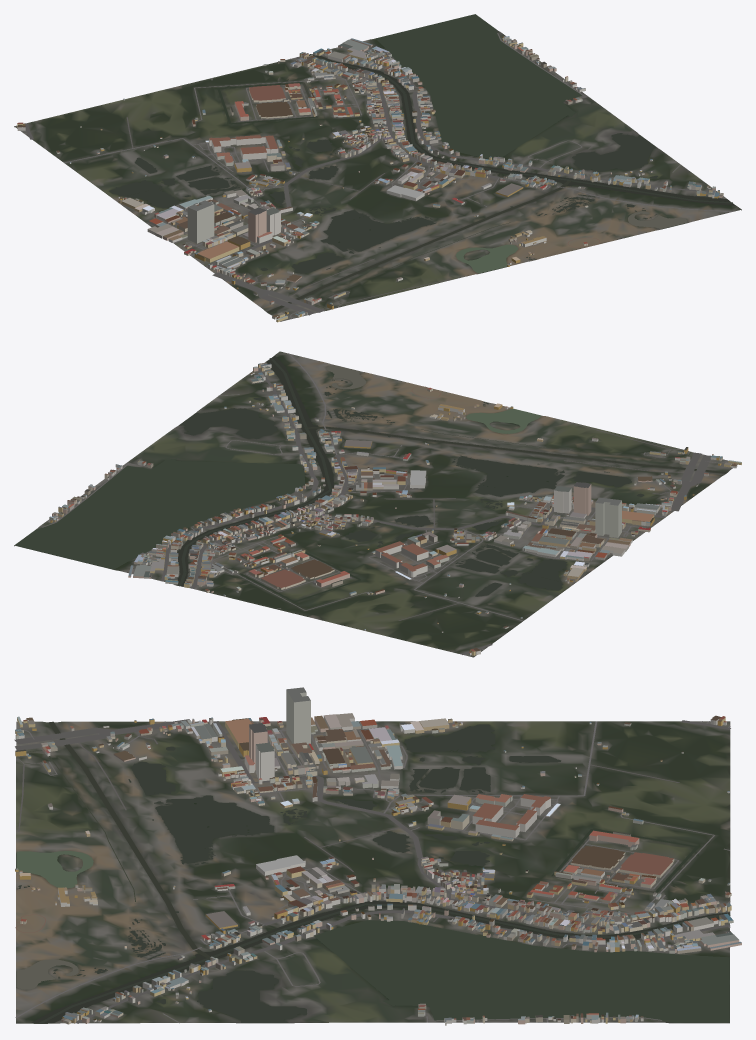
3 renders of one model, top to bottom at view 1: azimuth 30°, elevation 25°; view 2: azimuth 150°, elevation 25°; view 3: azimuth 270°, elevation 25°, orthographic. The views are drawn at different scales.
Visible parts, largest first — view 1: ground, water, buildings, roads; view 2: ground, water, buildings, roads; view 3: ground, water, buildings, roads.
Boxes of the visible parts, x1,y1,x2,y2 form: ground: (14, 14, 741, 321); water: (109, 14, 735, 312); buildings: (17, 36, 723, 322); roads: (22, 33, 733, 318); ground: (14, 351, 737, 657); water: (15, 355, 726, 602); buildings: (48, 363, 741, 655); roads: (42, 353, 727, 655); ground: (16, 721, 730, 1023); water: (16, 721, 730, 1023); buildings: (15, 687, 741, 1025); roads: (14, 719, 730, 1023).
Size of the model in its own units: 1435 by 99.2 by 1429.
